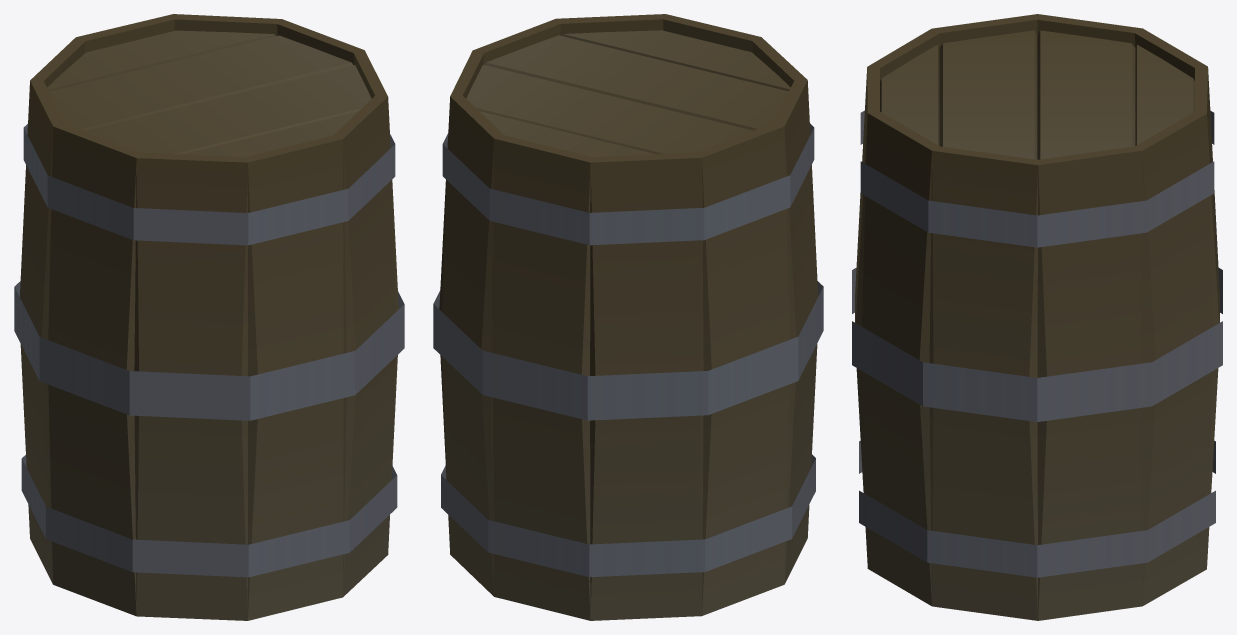
Rendered from Barrel_3_LOD1.fbx.
3 renders of one model, left to right at view 1: azimuth 30°, elevation 25°; view 2: azimuth 150°, elevation 25°; view 3: azimuth 270°, elevation 25°, orthographic.
Visible parts, largest first — view 1: polySurface9641; view 2: polySurface9641; view 3: polySurface9641.
Part boxes in pixels (x1,y1,x2,y2): polySurface9641: [14, 14, 404, 620]; polySurface9641: [433, 14, 823, 620]; polySurface9641: [852, 14, 1222, 620].
Bounding box in the file's own units: 140 × 180 × 133.
